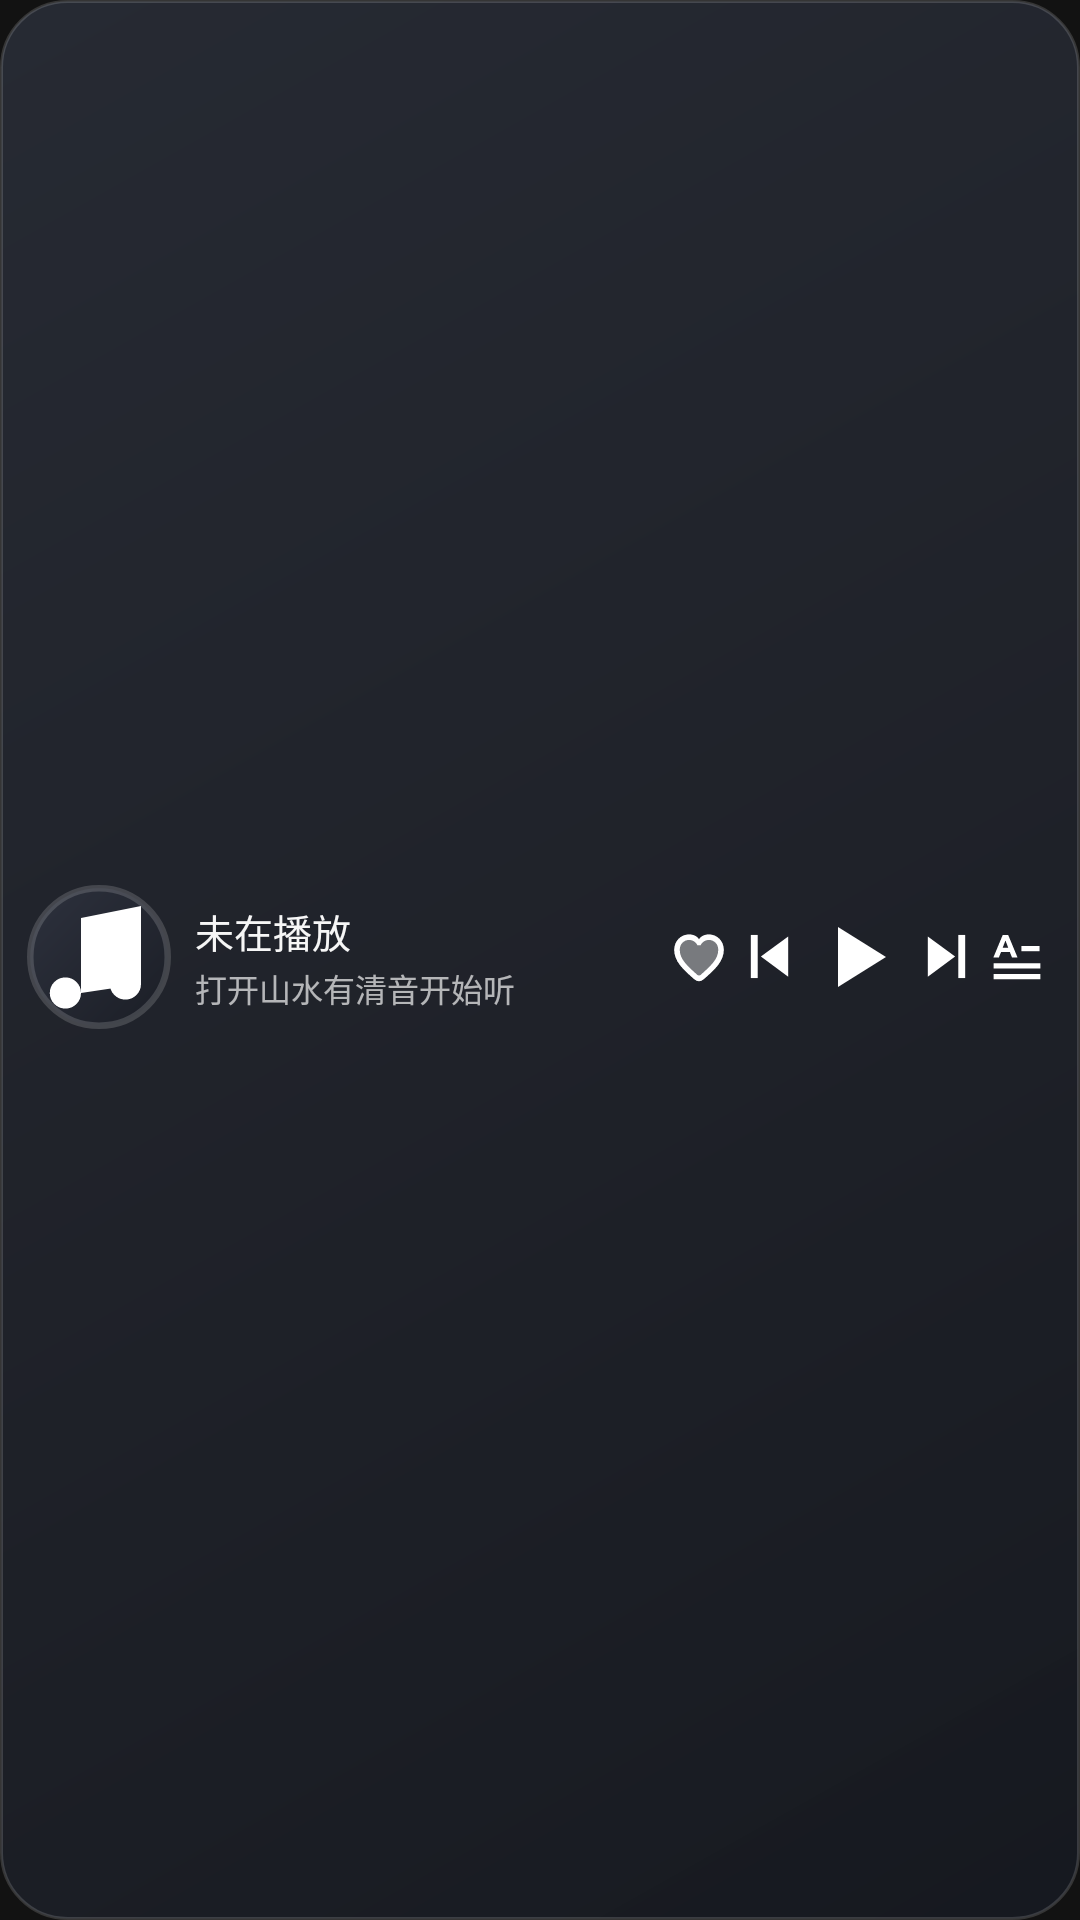

Icons on this 1080 x 1920 Android screen, each with the point to tap as (x=x, y=y):
上一首: (x=769, y=956)
下一首: (x=946, y=956)
播放或暂停: (x=862, y=957)
收藏或取消收藏: (x=699, y=958)
显示或隐藏歌词: (x=1017, y=957)
